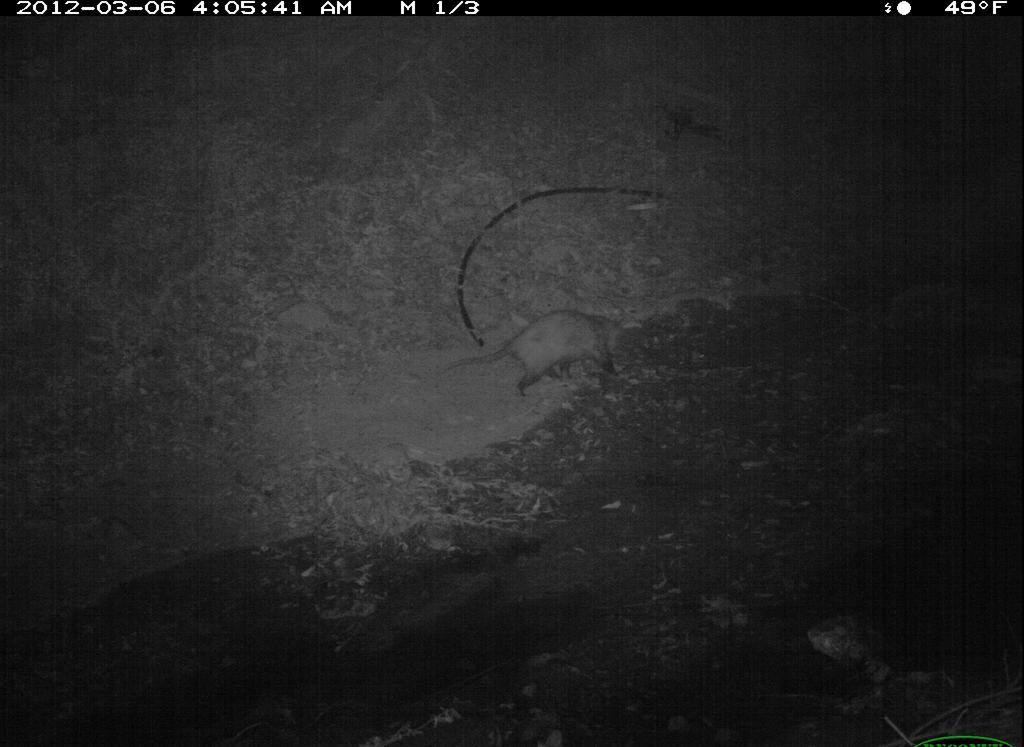opossum: (424, 299, 651, 406)
